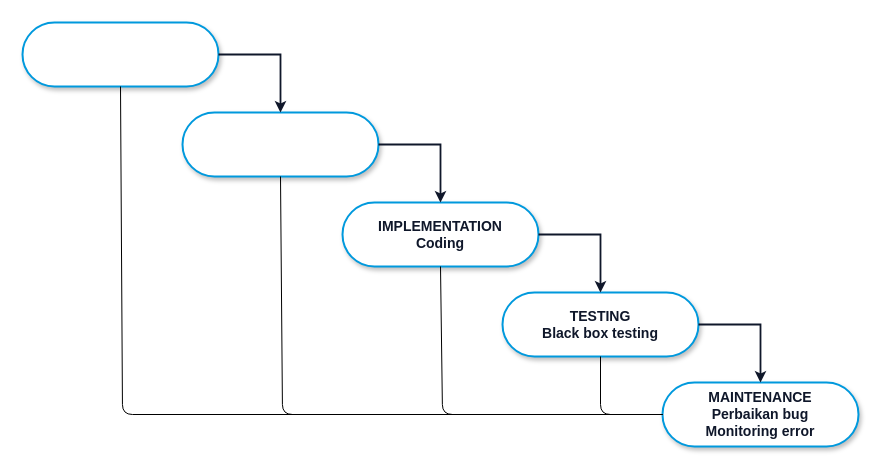
This 882x471 diagram has some shape labels left out. The centre of each missing label's shape, as x and y in pixels:
DESIGN Use case diagram UI/UX: the point at 281,145
REQUIREMENTS Analisa masalah: the point at 121,55
